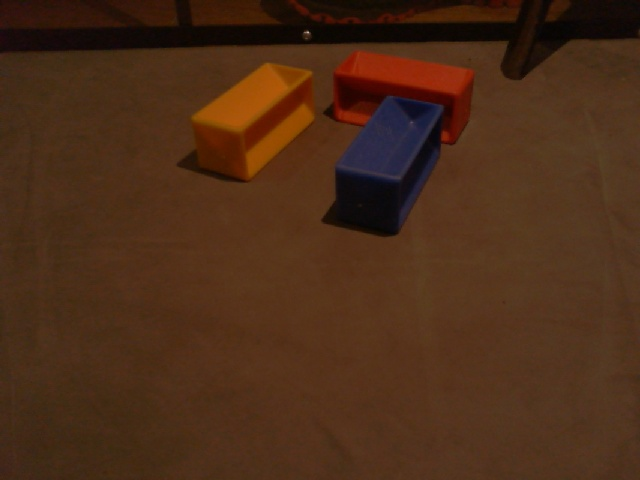BlueSample: (333, 93, 445, 238)
RedSample: (330, 48, 479, 149)
YellowSample: (191, 62, 316, 186)
